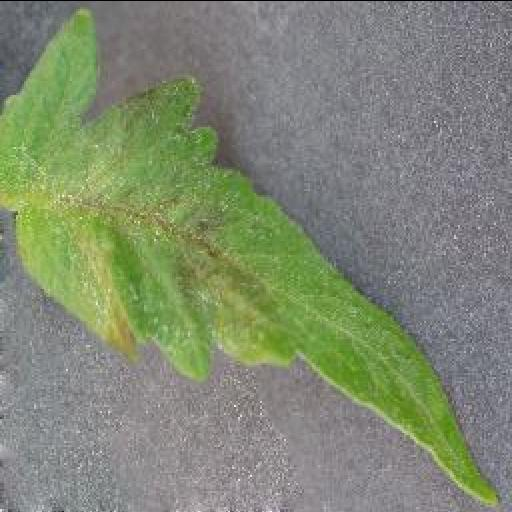disease_tomato: (0, 4, 496, 512)
